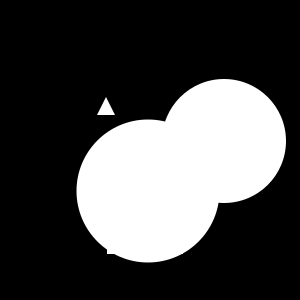circle: (107, 178, 183, 254)
rectangle: (76, 120, 220, 262), (162, 79, 286, 203), (250, 145, 258, 153)
triangle: (97, 97, 115, 115)
